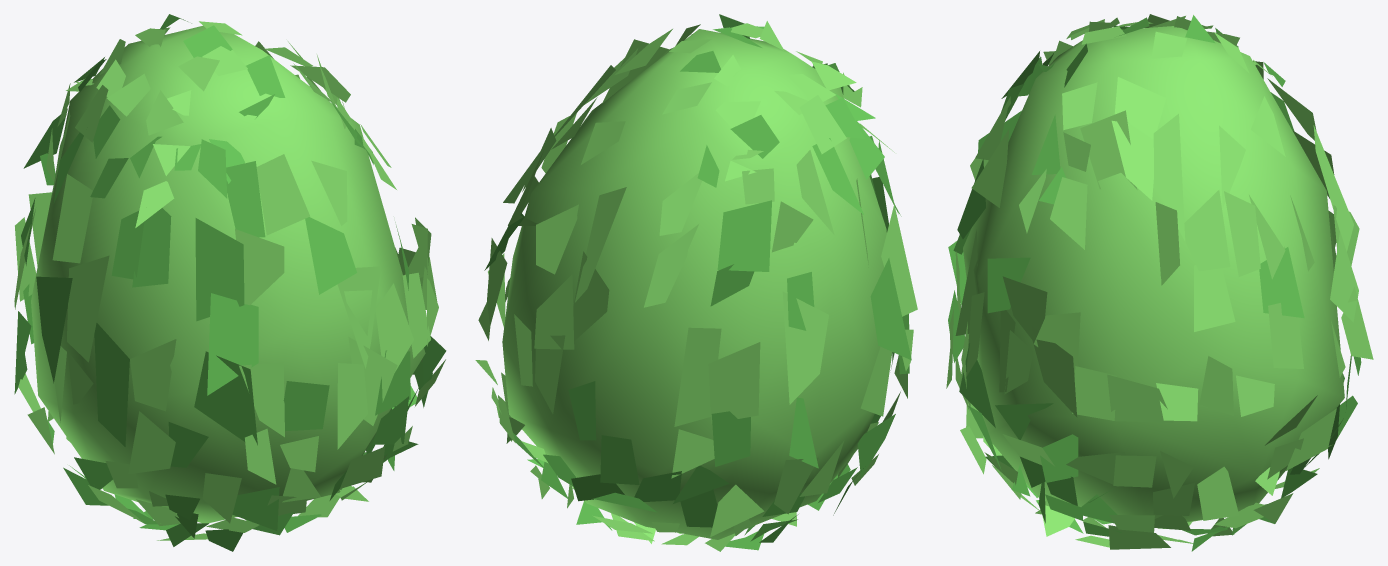
File: bush4.fbx
3 renders of one model, left to right at view 1: azimuth 30°, elevation 25°; view 2: azimuth 150°, elevation 25°; view 3: azimuth 270°, elevation 25°, orthographic.
Parts seen in each view (by area): view 1: Bush4; view 2: Bush4; view 3: Bush4.
Part boxes in pixels (x1=…): Bush4: x1=14, y1=14, x2=446, y2=551; Bush4: x1=475, y1=14, x2=917, y2=551; Bush4: x1=946, y1=14, x2=1373, y2=551.
Size of the model in its own units: 1.89 by 1.87 by 2.42.
